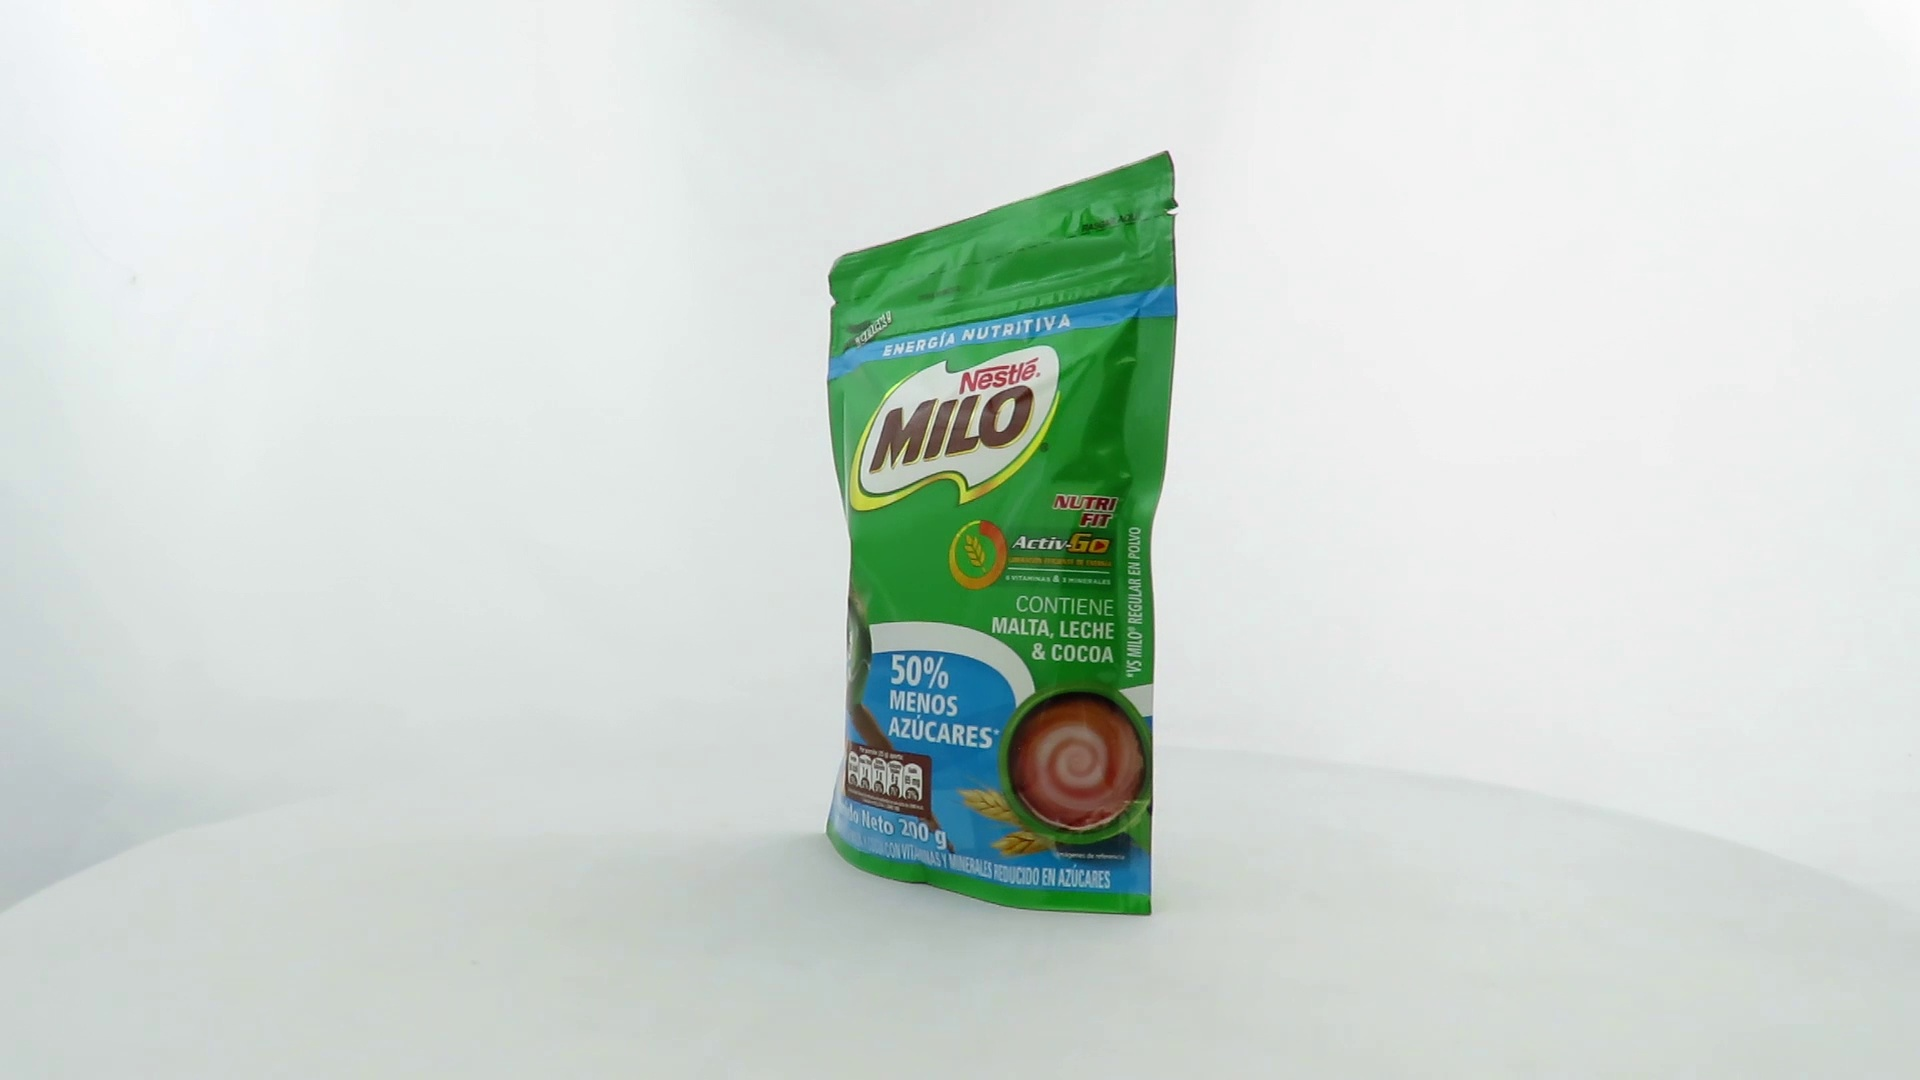COL0170205DYP20000: (806, 145, 1185, 922)
